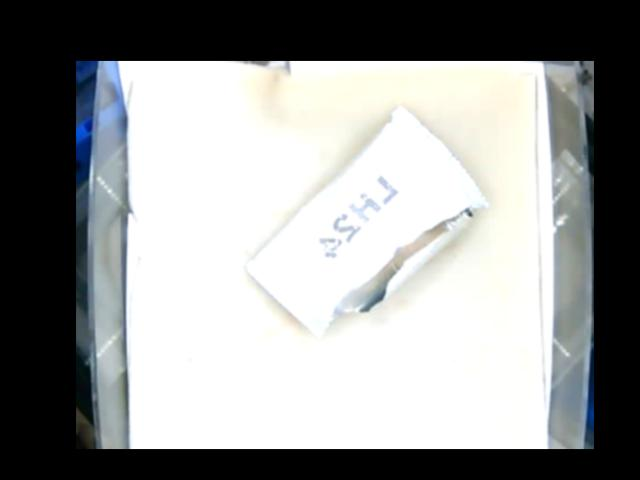Medicine: (246, 106, 489, 337)
